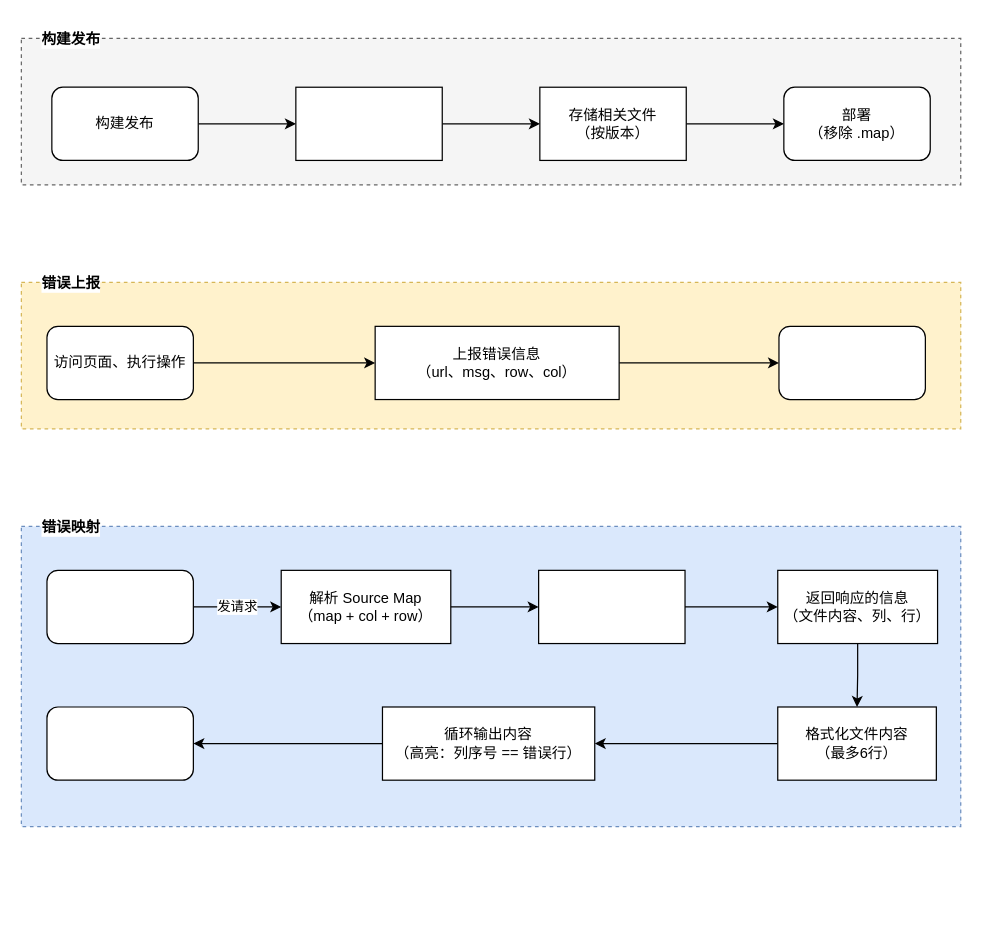
Image size: 982x949. Some labels were removed from this diagram. Here are the shapes that lost their labels. From the top down, the centre of each, then its label:
pixel 368 123: 上传源码 + .map
pixel 851 362: 收集 （错误次数 + 用户）
pixel 119 606: 查看错误信息
pixel 611 606: 解析、加载源文件
pixel 119 743: 内容展示
